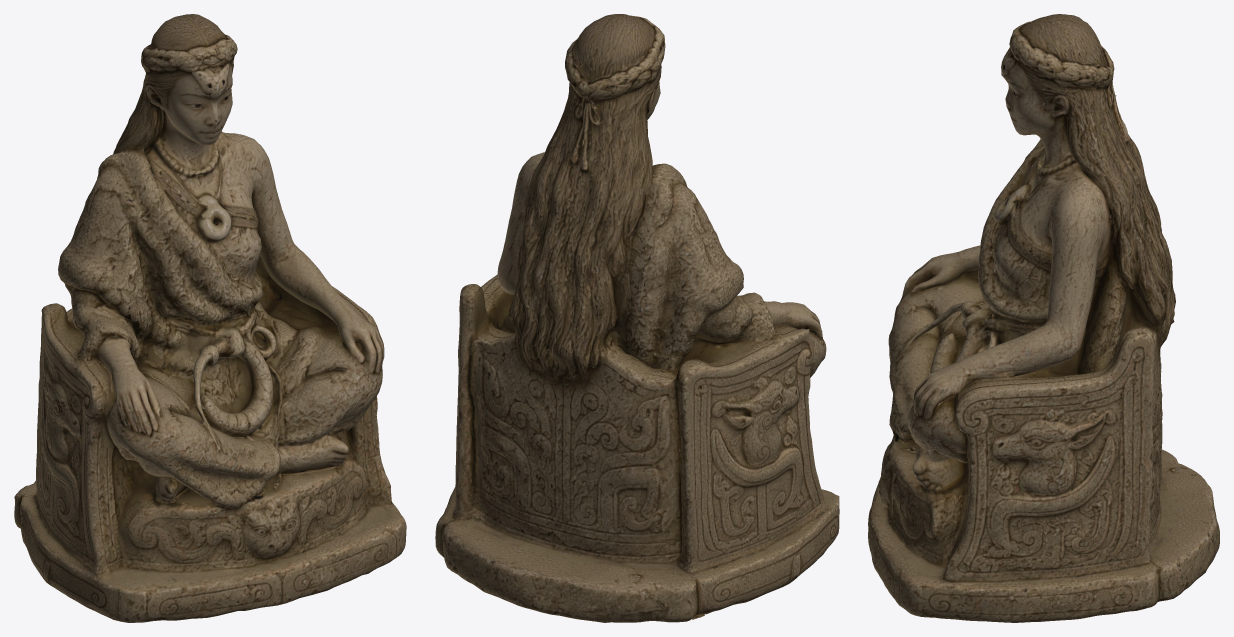
Rendered from stone_goddess_statue_3d_model.fbx.
3 renders of one model, left to right at view 1: azimuth 30°, elevation 25°; view 2: azimuth 150°, elevation 25°; view 3: azimuth 270°, elevation 25°, orthographic. The views are drawn at different scales.
Parts seen in each view (by area): view 1: tripo_node_bbd8e1b1; view 2: tripo_node_bbd8e1b1; view 3: tripo_node_bbd8e1b1.
Part boxes in pixels (x1,y1,x2,y2): tripo_node_bbd8e1b1: [14, 14, 406, 622]; tripo_node_bbd8e1b1: [435, 14, 839, 622]; tripo_node_bbd8e1b1: [868, 14, 1219, 622].
Bounding box in the file's own units: 0.63 × 0.978 × 0.5886.
